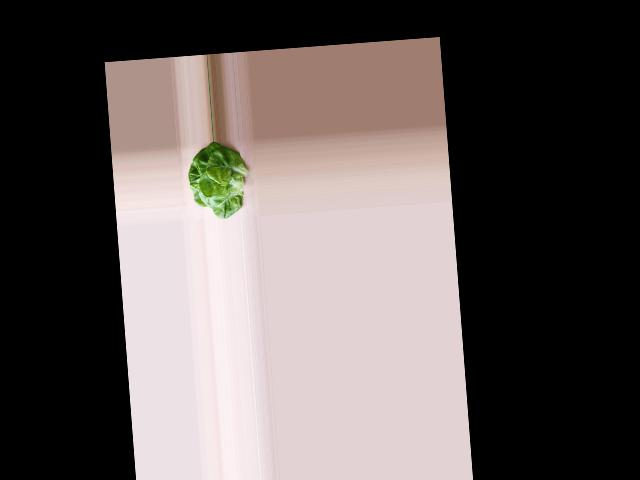lettuce: (186, 141, 248, 219)
